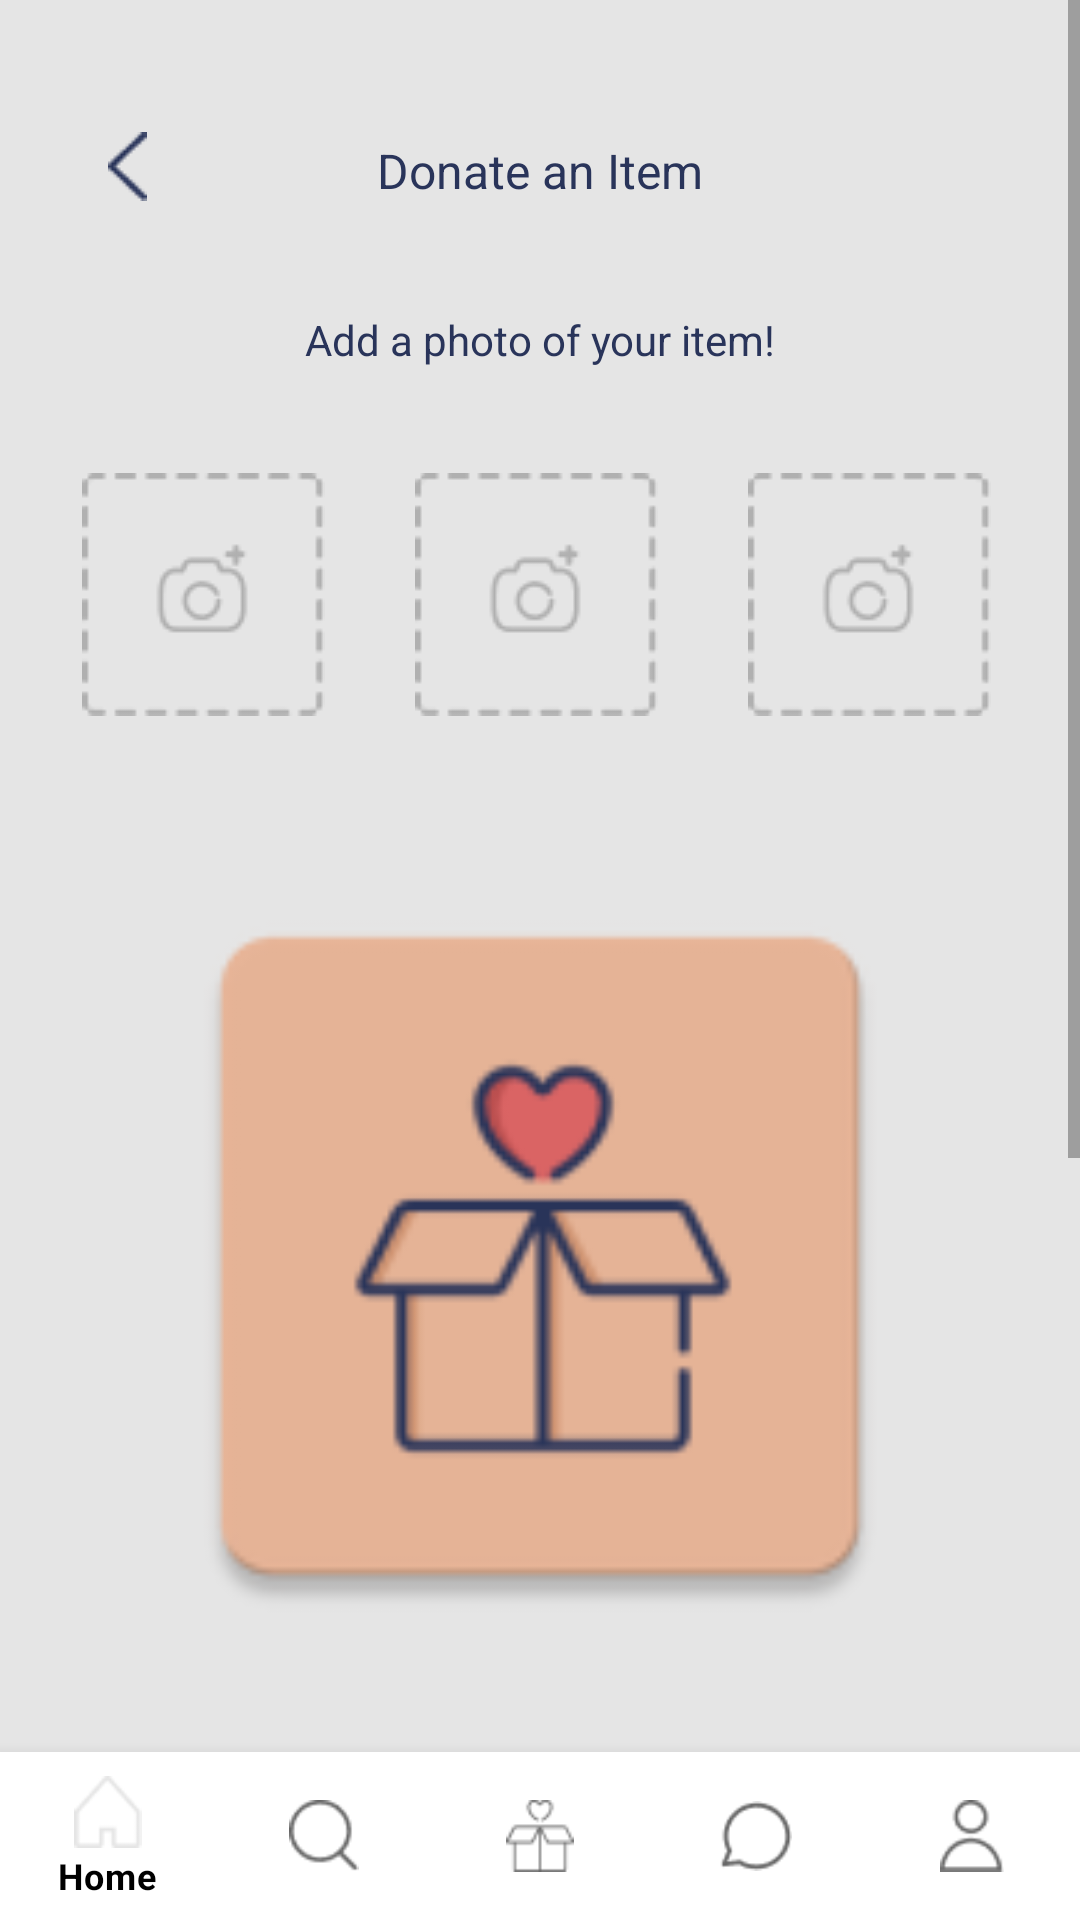

Screen size 1080x1920. Icon name, then its box in pixels as (x1, y1, x2, y2):
back: (108, 132, 147, 201)
camera: (82, 473, 322, 716), (415, 473, 655, 716), (748, 473, 988, 716)
